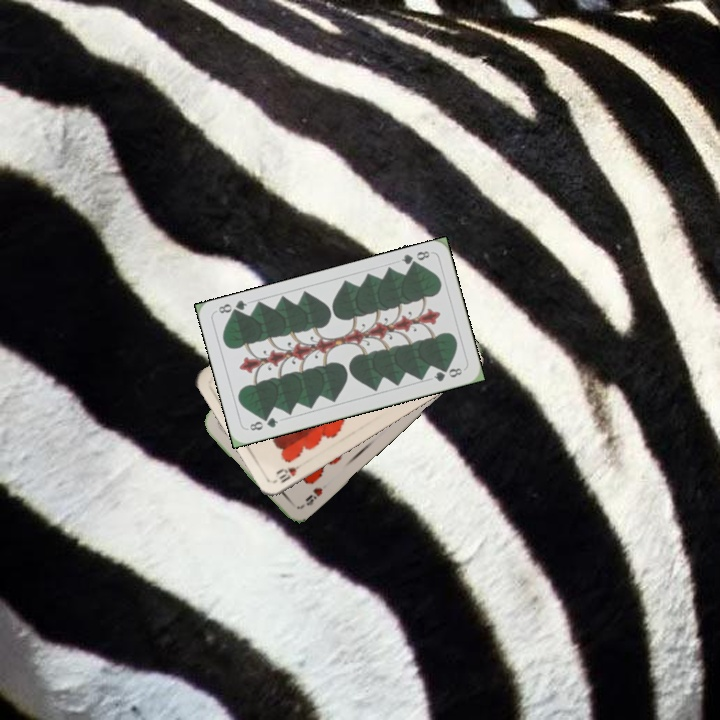G8: (397, 246, 432, 270), (246, 413, 281, 433)
H10: (272, 457, 308, 486)
H9: (297, 483, 325, 511)
